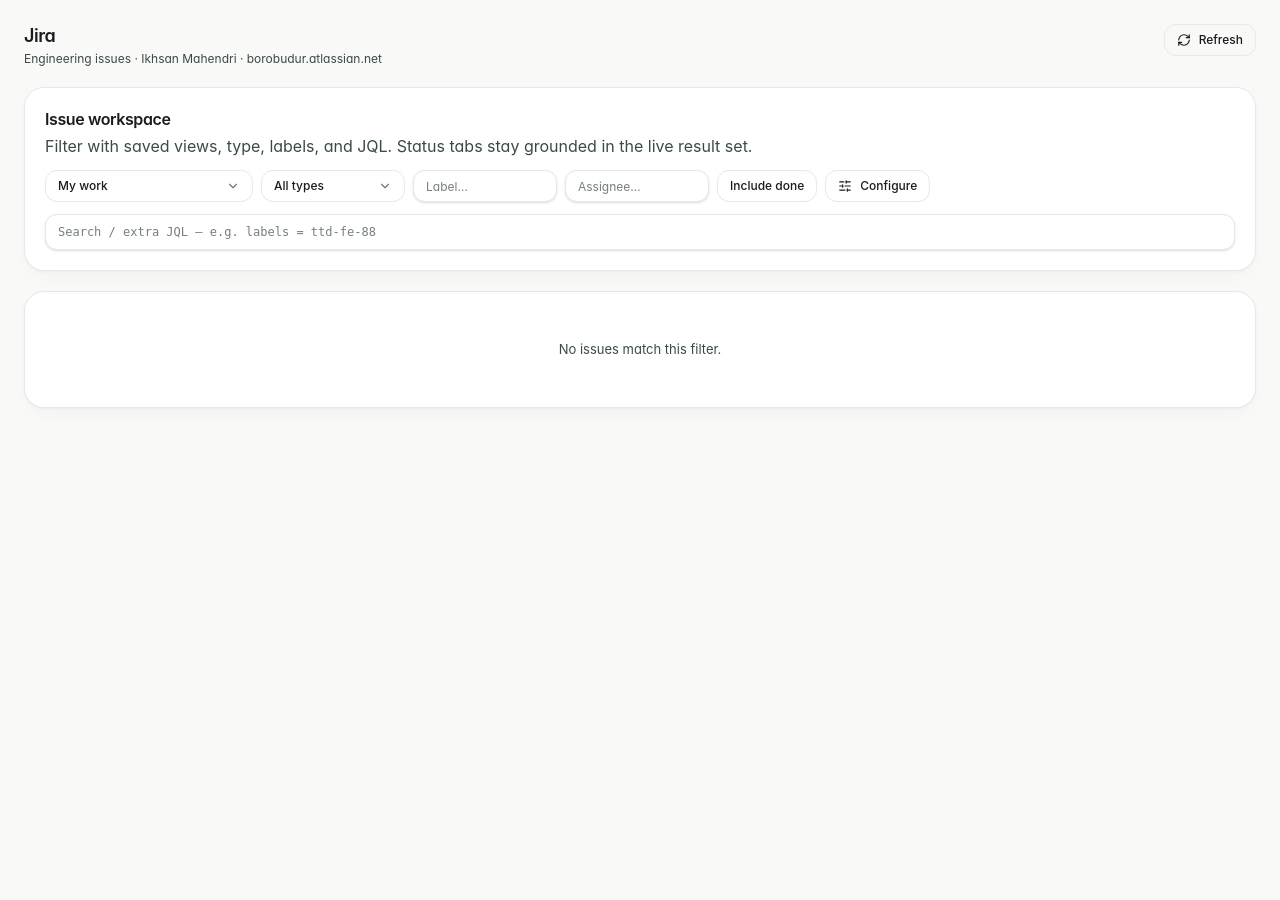
Test: JiraPage › shows assignee warning in configure panel when extra JQL contains assignee
Type "assignee = bob" into the field named "Search or JQL".
click(640, 232); type("assignee = bob")  # box [45, 214, 1235, 250]
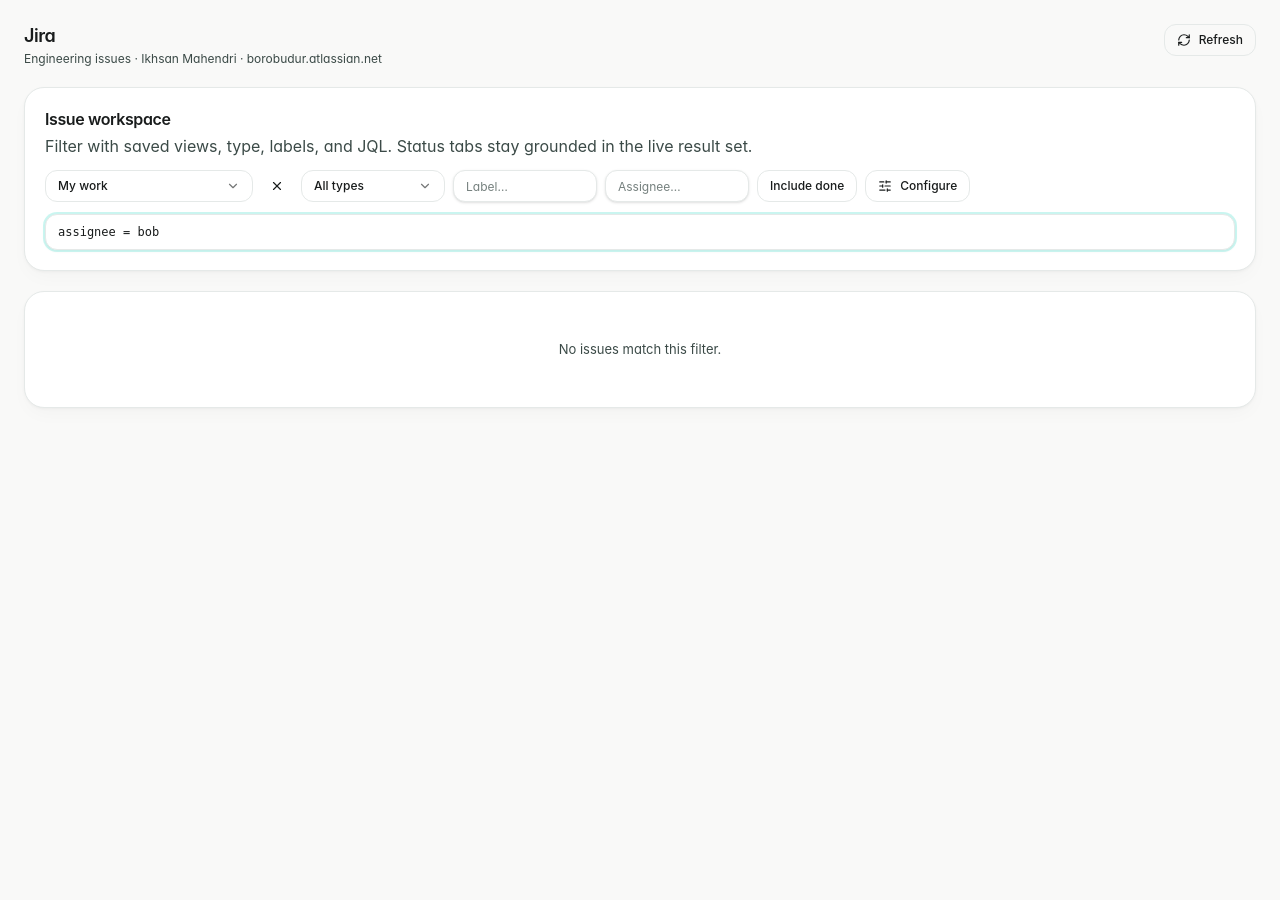
Click the button with aria-label "Configure filter".
click(918, 186)  # box [865, 170, 970, 202]
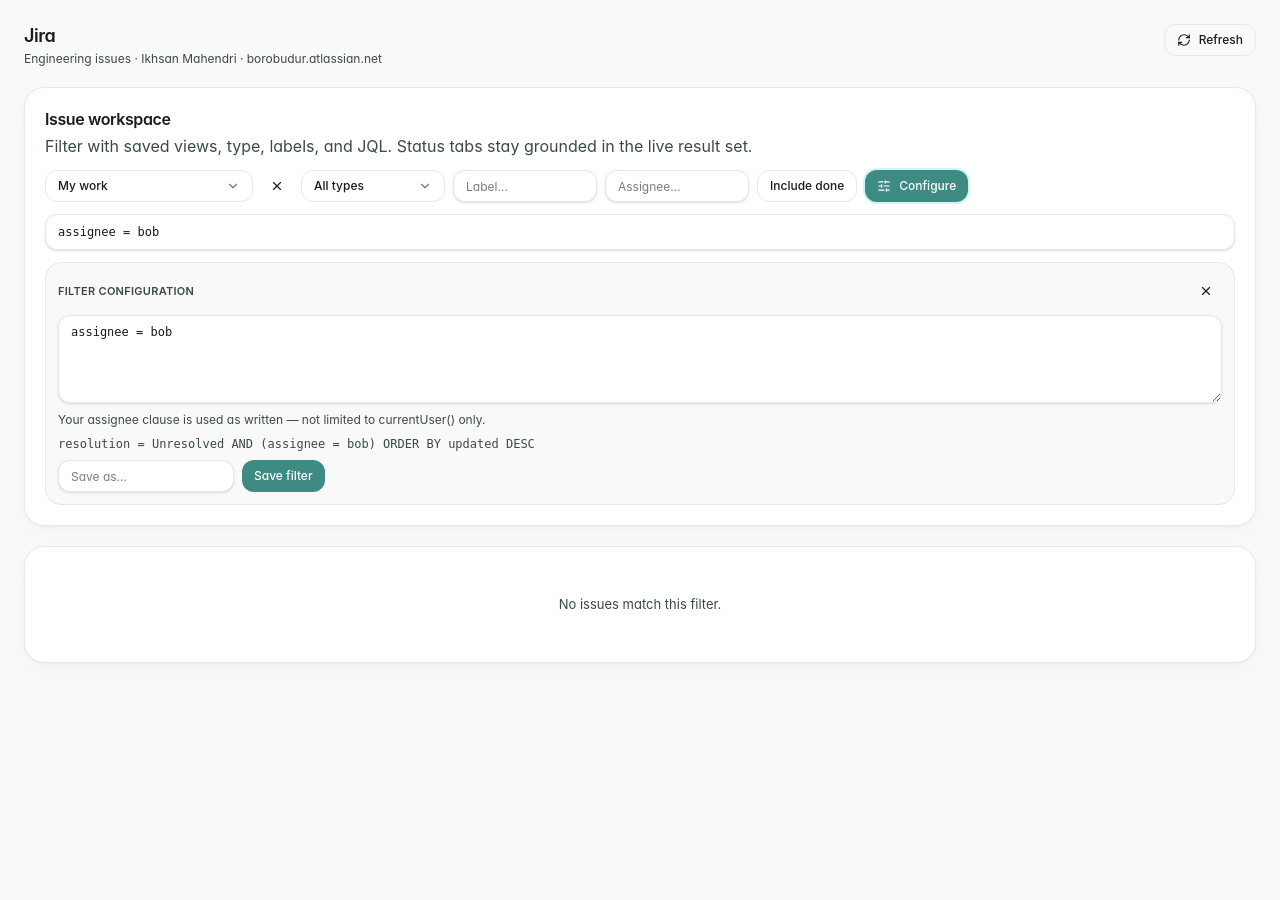
Expected: the text "Your assignee clause is used as written" is shown, [58, 412, 485, 427]
